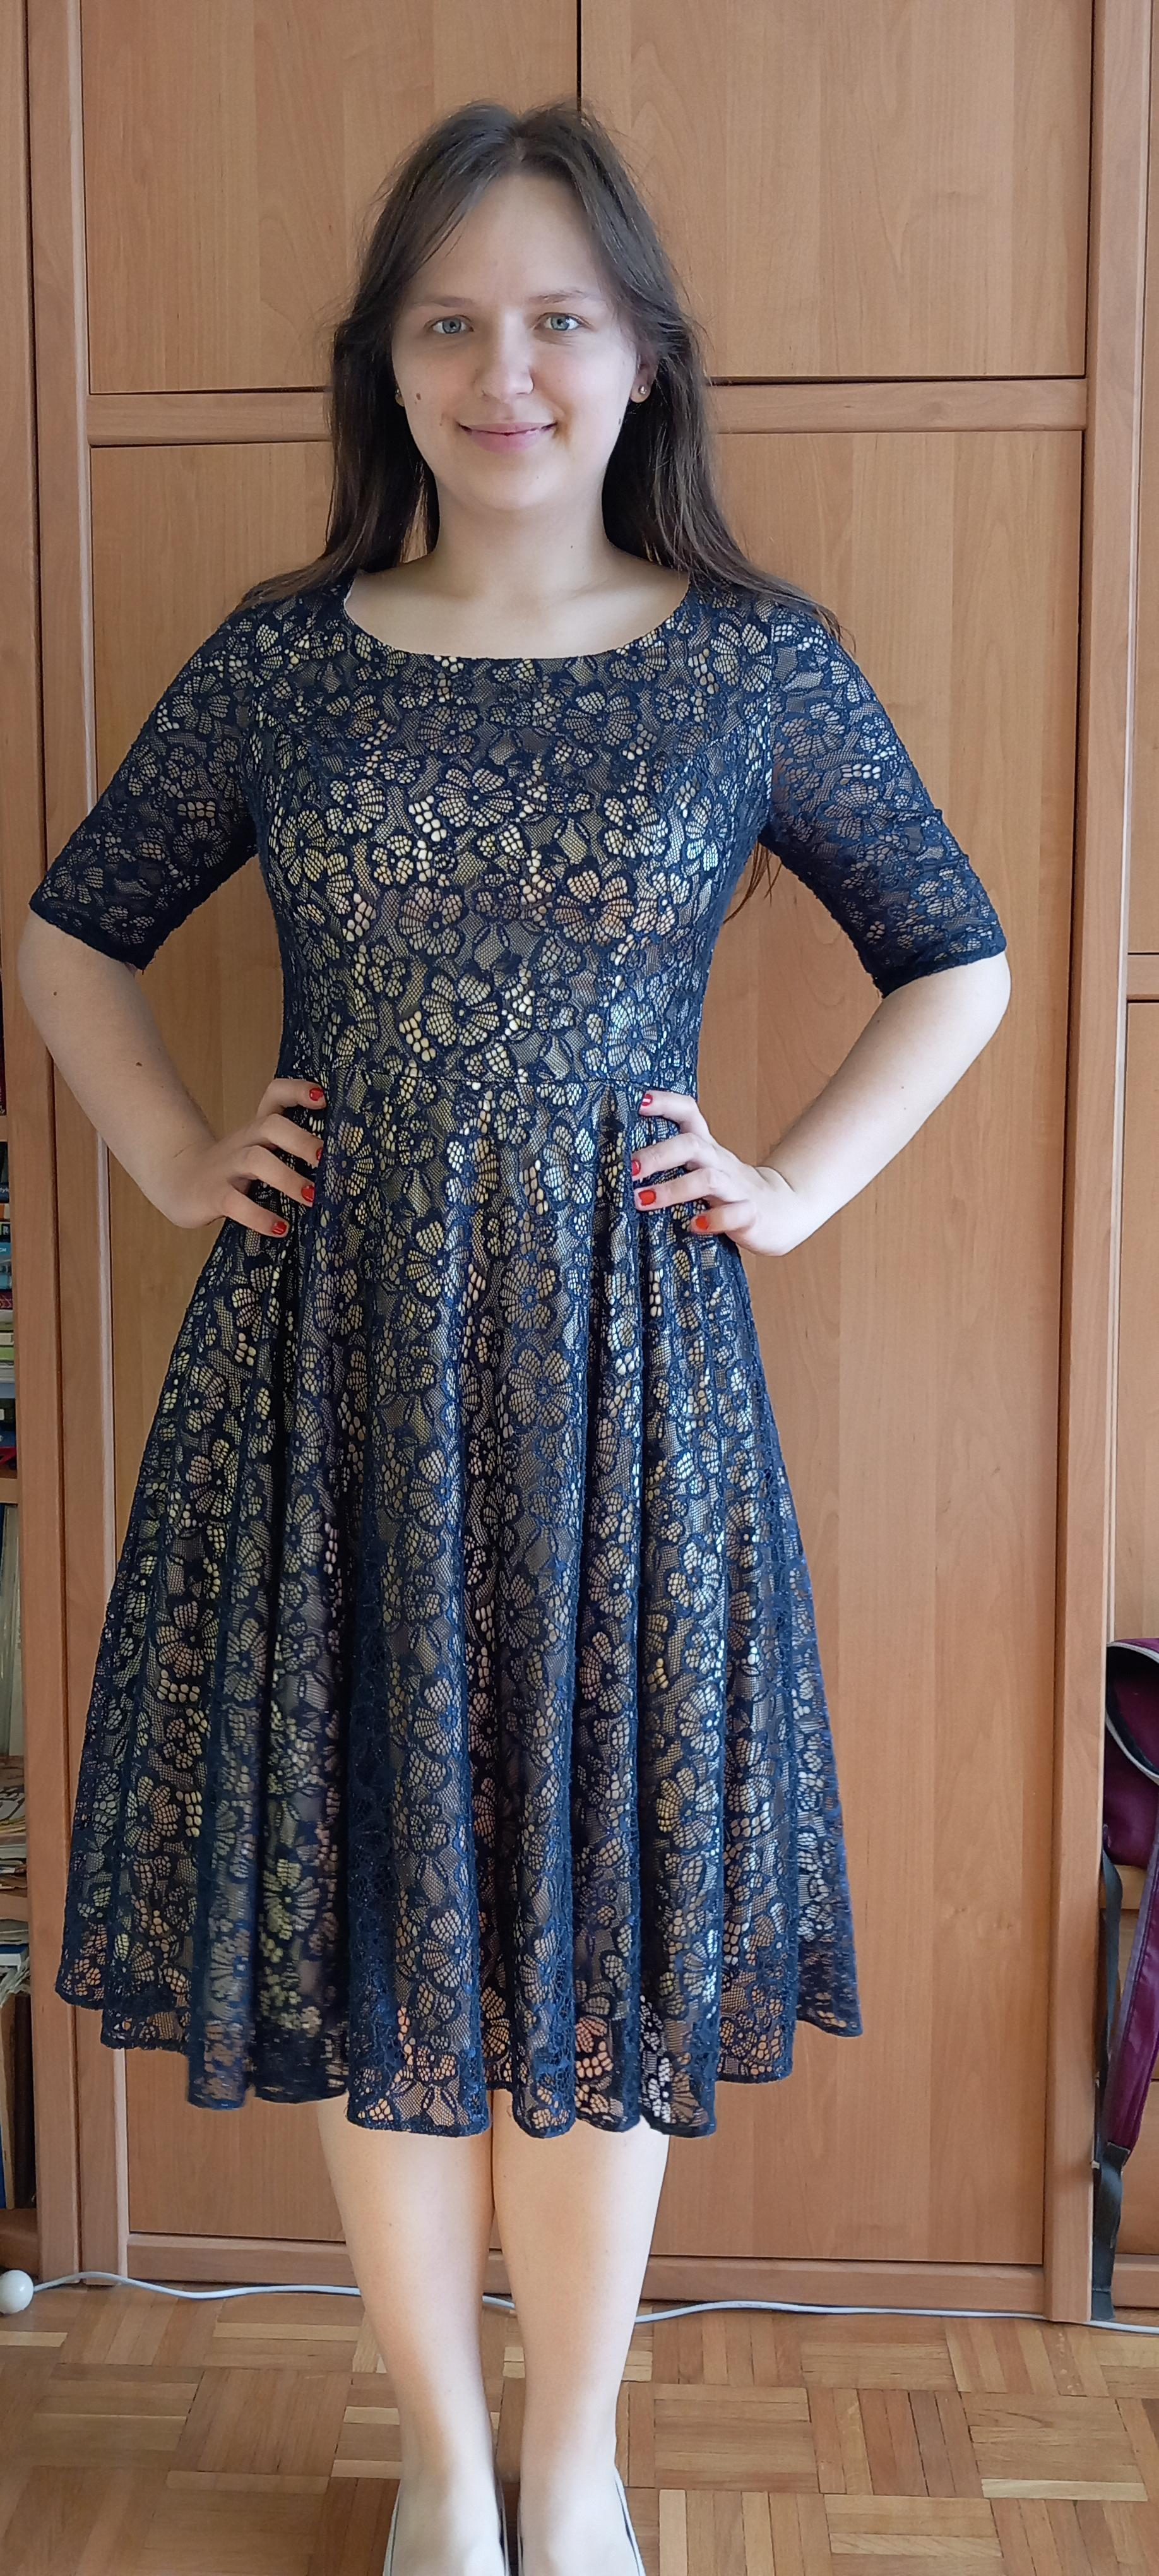dress: (30, 562, 1008, 2142)
